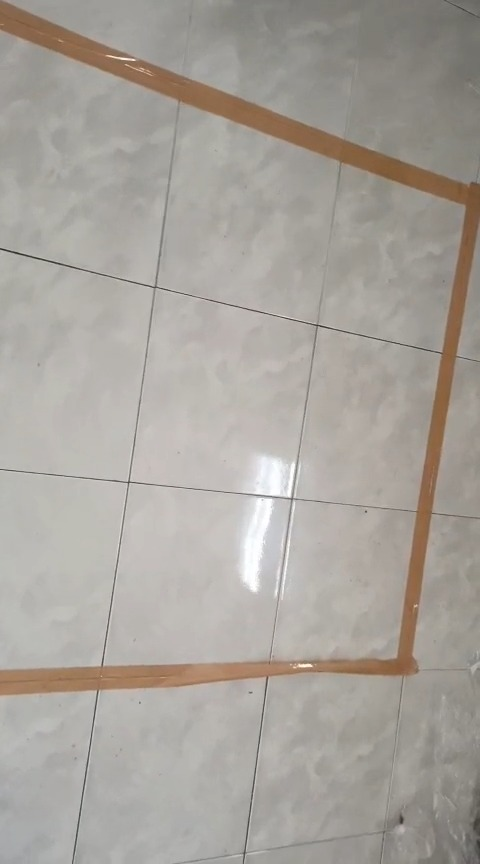floor marking: (0, 0, 479, 694)
